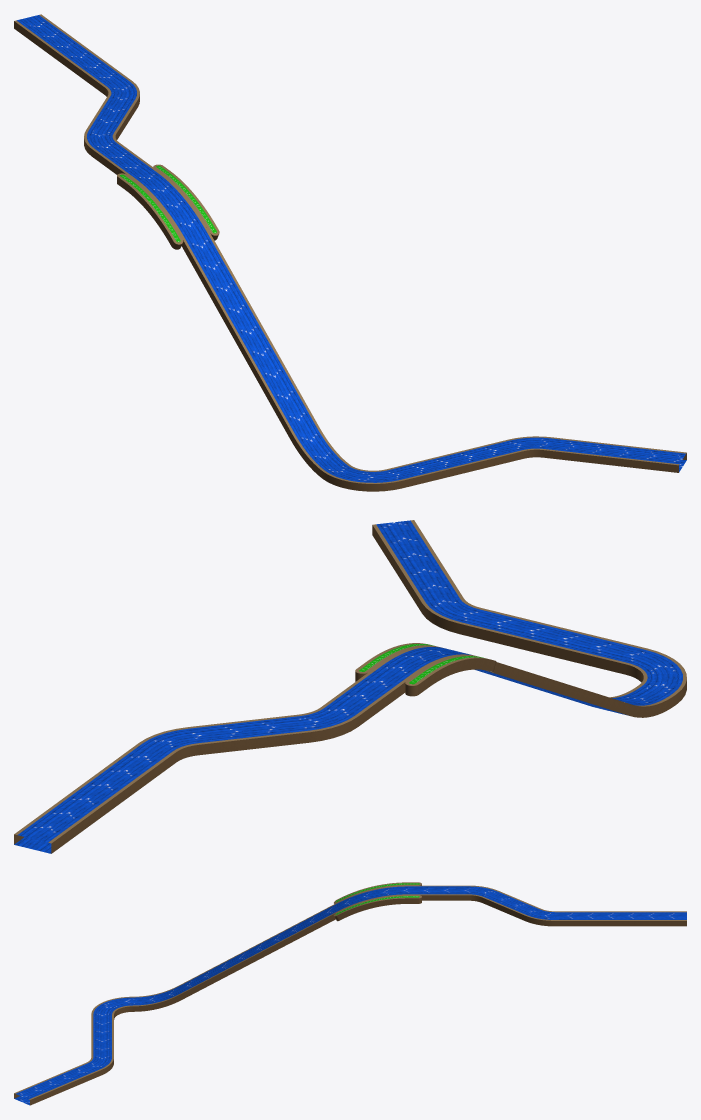
The model's file is ramp_24.FBX.
3 views of the same model, one above another, from view 1: azimuth 30°, elevation 25°; view 2: azimuth 150°, elevation 25°; view 3: azimuth 270°, elevation 25° (orthographic). The views are drawn at different scales.
Parts seen in each view (by area): view 1: ramp_24; view 2: ramp_24; view 3: ramp_24.
Part boxes in pixels (<box>): ramp_24: <box>14,14,686,491</box>; ramp_24: <box>14,520,686,853</box>; ramp_24: <box>14,882,686,1105</box>.
Size of the model in its own units: 4973 by 2536 by 13264.
